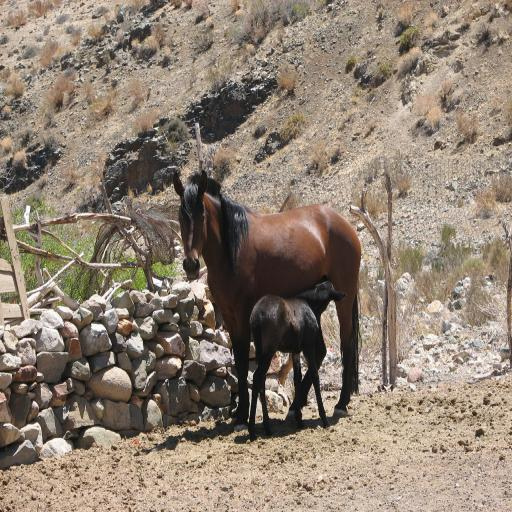Horse: (246, 277, 347, 441)
